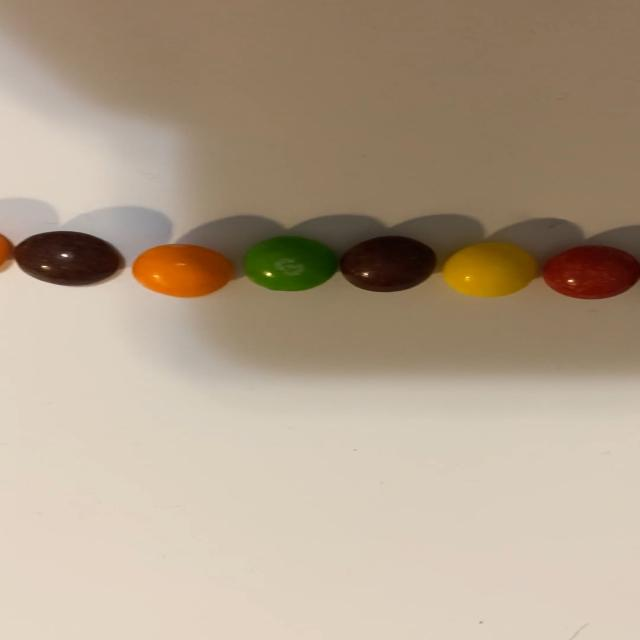smartie: (8, 231, 123, 286), (340, 236, 436, 292), (131, 244, 232, 297), (542, 245, 640, 299), (443, 242, 539, 297), (243, 236, 339, 291)
